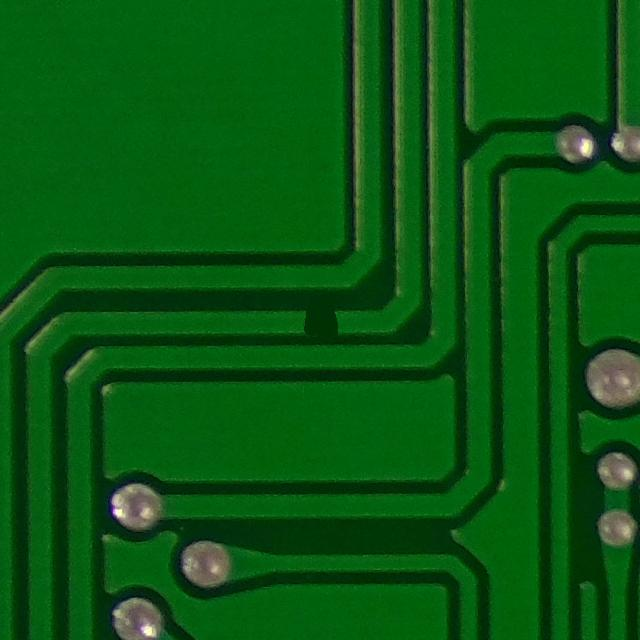open_circuit: (290, 298, 350, 342)
